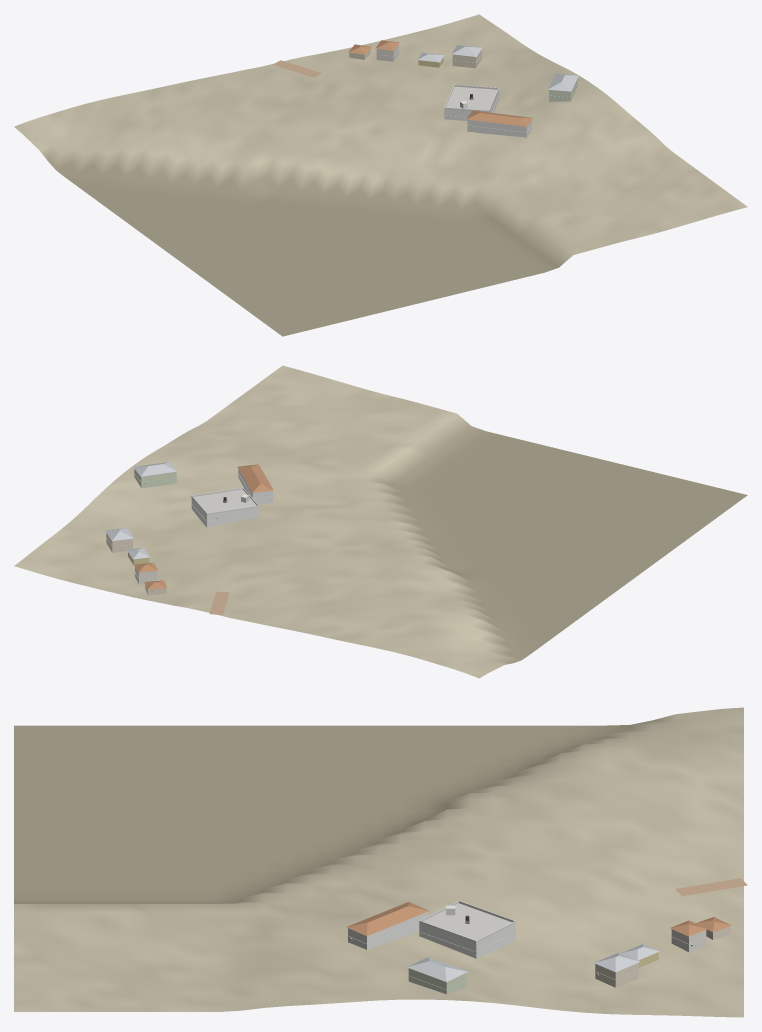
The picture shows the model from 3 angles, top to bottom: view 1: azimuth 30°, elevation 25°; view 2: azimuth 150°, elevation 25°; view 3: azimuth 270°, elevation 25°; orthographic projection. The views are drawn at different scales.
Parts seen in each view (by area): view 1: Terrain-col, Buildings-col, Details; view 2: Terrain-col, Buildings-col, Details; view 3: Terrain-col, Buildings-col, Details, Roads-col.
Part boxes in pixels (<box>): Terrain-col: <box>14,14,747,336</box>; Buildings-col: <box>348,40,578,137</box>; Details: <box>376,49,578,133</box>; Terrain-col: <box>14,365,747,678</box>; Buildings-col: <box>105,462,273,595</box>; Details: <box>106,473,272,591</box>; Terrain-col: <box>14,707,743,1017</box>; Buildings-col: <box>346,902,731,994</box>; Details: <box>347,900,706,990</box>; Roads-col: <box>675,878,747,895</box>.
Bounding box in the file's own units: 256 × 19.73 × 257.
